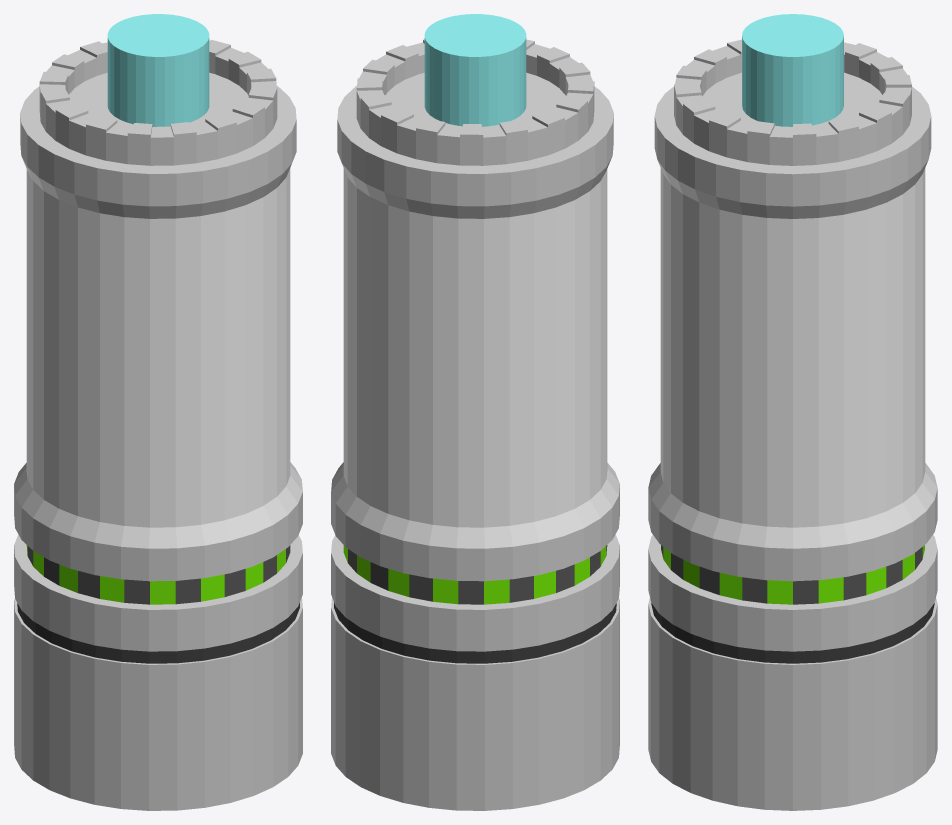
File: Replicator.fbx
3 renders of one model, left to right at view 1: azimuth 30°, elevation 25°; view 2: azimuth 150°, elevation 25°; view 3: azimuth 270°, elevation 25°, orthographic.
Visible parts, largest first — view 1: Cylinder; view 2: Cylinder; view 3: Cylinder.
Part boxes in pixels (left/top/right/bottom): Cylinder: left=14, top=14, right=302, bottom=810; Cylinder: left=331, top=14, right=619, bottom=810; Cylinder: left=648, top=14, right=937, bottom=810.
Bounding box in the file's own units: 200 × 545 × 200.
